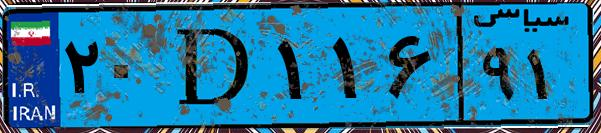0: (110, 28, 158, 98)
1: (270, 28, 330, 110), (330, 28, 385, 110), (525, 38, 570, 115)
2: (57, 26, 110, 100)
6: (385, 28, 445, 110)
9: (475, 38, 525, 113)
D: (158, 12, 270, 120)
